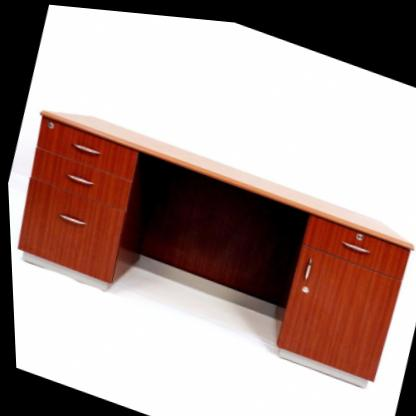Table: (3, 83, 416, 416)
